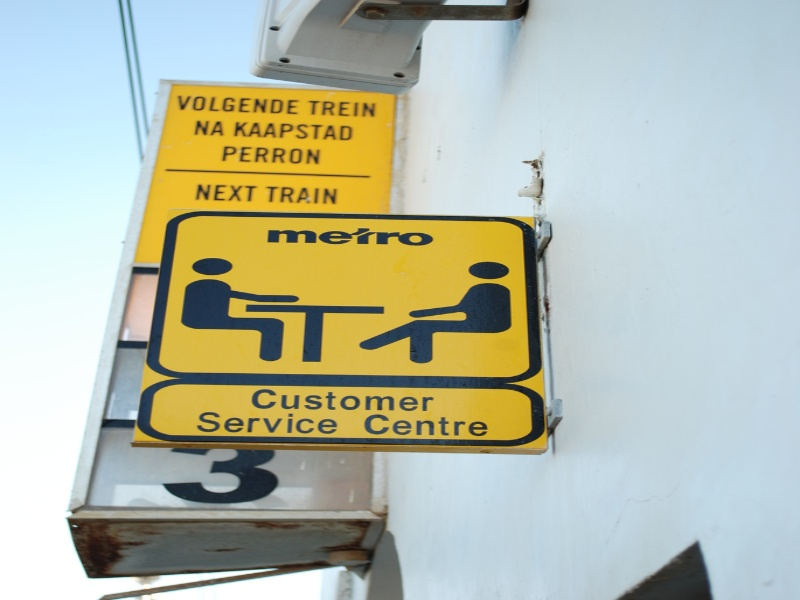metro_customer_service_centre: (170, 215, 553, 443)
